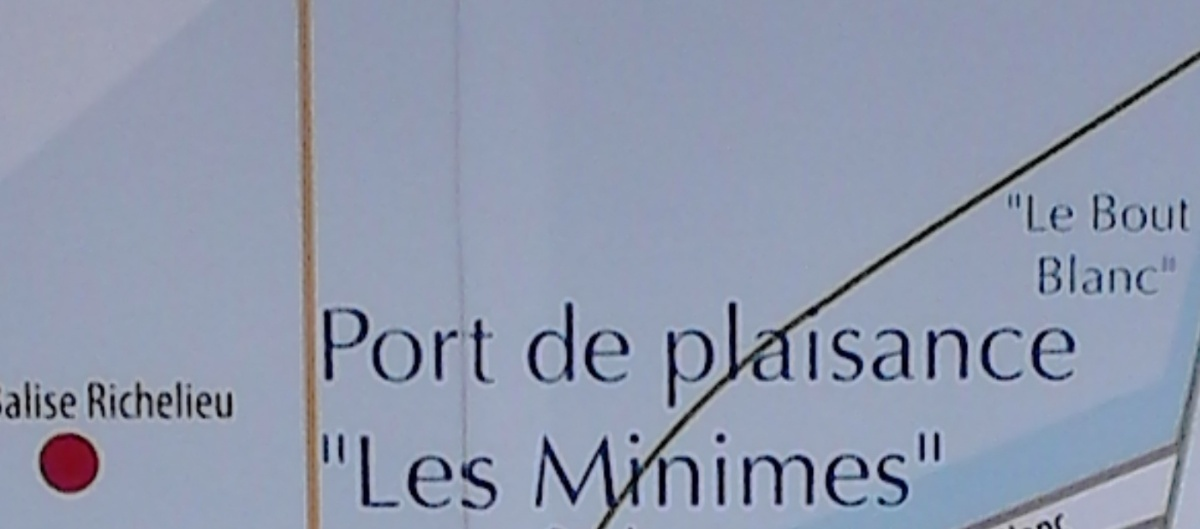text: (673, 293, 688, 411), (689, 293, 704, 411), (705, 293, 720, 411), (721, 293, 736, 411), (737, 293, 752, 411), (753, 293, 768, 411), (769, 293, 784, 411), (785, 293, 800, 411), (801, 293, 816, 411), (817, 293, 832, 411), (833, 293, 848, 411), (849, 293, 864, 411), (865, 293, 880, 411), (881, 293, 896, 411), (897, 293, 912, 411), (913, 293, 928, 411), (929, 293, 944, 411), (945, 293, 960, 411), (961, 293, 976, 411), (977, 293, 992, 411), (993, 293, 1008, 411), (1009, 293, 1024, 411), (1025, 293, 1040, 411), (1041, 293, 1056, 411), (1057, 293, 1072, 411), (659, 293, 672, 411), (481, 428, 497, 512), (529, 300, 544, 387), (545, 300, 560, 387), (561, 300, 576, 387), (577, 300, 592, 387), (593, 300, 608, 387), (609, 300, 624, 387), (369, 428, 384, 512), (385, 428, 400, 512), (401, 428, 416, 512), (417, 428, 432, 512), (433, 428, 448, 512), (449, 428, 464, 512), (465, 428, 480, 512), (321, 304, 336, 387), (337, 304, 352, 387), (353, 304, 368, 387), (369, 304, 384, 387), (385, 304, 400, 387), (401, 304, 416, 387), (417, 304, 432, 387), (433, 304, 448, 387), (449, 304, 464, 387), (465, 304, 480, 387), (481, 304, 496, 387), (545, 431, 560, 513), (561, 431, 576, 513), (577, 431, 592, 513), (593, 431, 608, 513), (609, 431, 624, 513), (625, 431, 640, 513), (641, 431, 656, 513), (657, 431, 672, 513), (673, 431, 688, 513), (689, 431, 704, 513), (705, 431, 720, 513), (721, 431, 736, 513), (737, 431, 752, 513), (753, 431, 768, 513), (769, 431, 784, 513), (785, 431, 800, 513), (801, 431, 816, 513), (817, 431, 832, 513), (833, 431, 848, 513), (849, 431, 864, 513), (865, 431, 880, 513), (881, 431, 896, 513), (897, 431, 912, 513), (1073, 293, 1081, 411), (357, 428, 368, 512), (1105, 190, 1120, 237), (1121, 190, 1136, 237), (1137, 190, 1152, 237), (1153, 190, 1168, 237), (1169, 190, 1184, 237), (1041, 251, 1056, 298), (1057, 251, 1072, 298), (1073, 251, 1088, 298), (1089, 251, 1104, 298), (1105, 251, 1120, 298), (1121, 251, 1136, 298), (1137, 251, 1152, 298), (913, 423, 928, 470), (929, 423, 944, 470), (97, 375, 112, 421), (113, 375, 128, 421), (129, 375, 144, 421), (145, 375, 160, 421), (161, 375, 176, 421), (177, 375, 192, 421), (193, 375, 208, 421), (209, 375, 224, 421), (321, 426, 336, 472), (17, 378, 32, 422), (33, 378, 48, 422), (49, 378, 64, 422), (1090, 190, 1104, 237), (1025, 192, 1040, 235), (1041, 192, 1056, 235), (1057, 192, 1072, 235), (625, 300, 632, 387), (337, 426, 350, 472), (65, 378, 78, 422), (522, 300, 528, 387), (1185, 190, 1195, 237), (1153, 251, 1162, 298), (87, 375, 96, 421), (7, 378, 16, 422), (225, 375, 233, 421), (1169, 250, 1182, 277), (1009, 188, 1022, 212), (541, 431, 544, 513), (1159, 250, 1168, 277), (1035, 251, 1040, 298), (945, 423, 950, 470), (1001, 188, 1008, 212), (317, 426, 320, 472), (1073, 192, 1076, 235), (497, 304, 498, 387), (911, 423, 912, 470)
